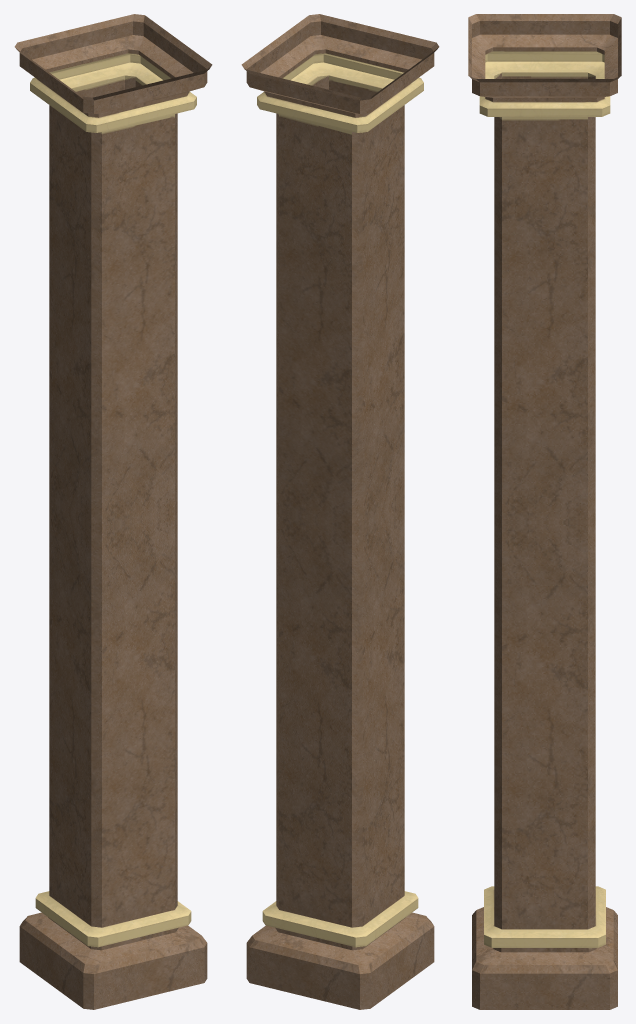
The model's file is Modeling_Pillar_180.FBX.
3 renders of one model, left to right at view 1: azimuth 30°, elevation 25°; view 2: azimuth 150°, elevation 25°; view 3: azimuth 270°, elevation 25°, orthographic.
Visible parts, largest first — view 1: Modeling_Pillar_180%; view 2: Modeling_Pillar_180%; view 3: Modeling_Pillar_180%.
Boxes of the visible parts, <box> form: Modeling_Pillar_180%: <box>14,14,212,1009</box>; Modeling_Pillar_180%: <box>241,14,439,1009</box>; Modeling_Pillar_180%: <box>468,14,621,1009</box>.
Size of the model in its own units: 105 by 705 by 105.
